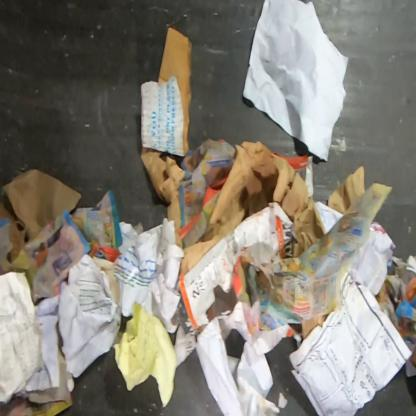cardboard: (178, 201, 294, 332), (0, 166, 83, 263), (140, 26, 194, 158)
